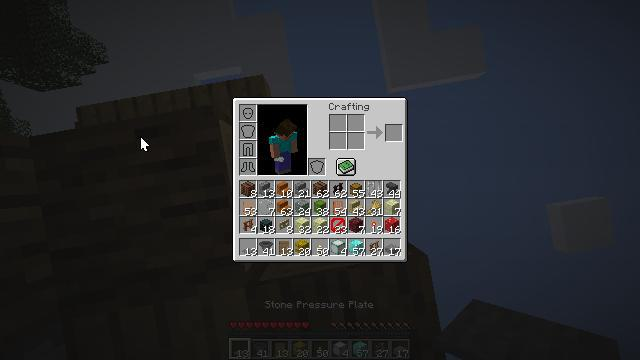cursor: (140, 136, 150, 152)
